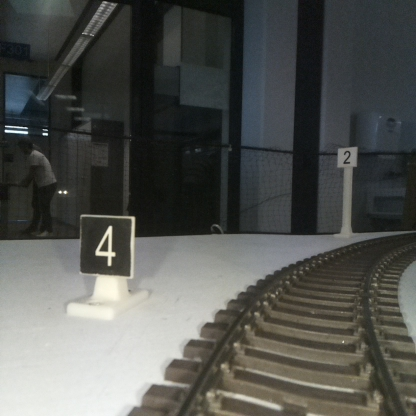black-stop-4: (80, 218, 131, 314)
white-info-2: (337, 146, 357, 236)
